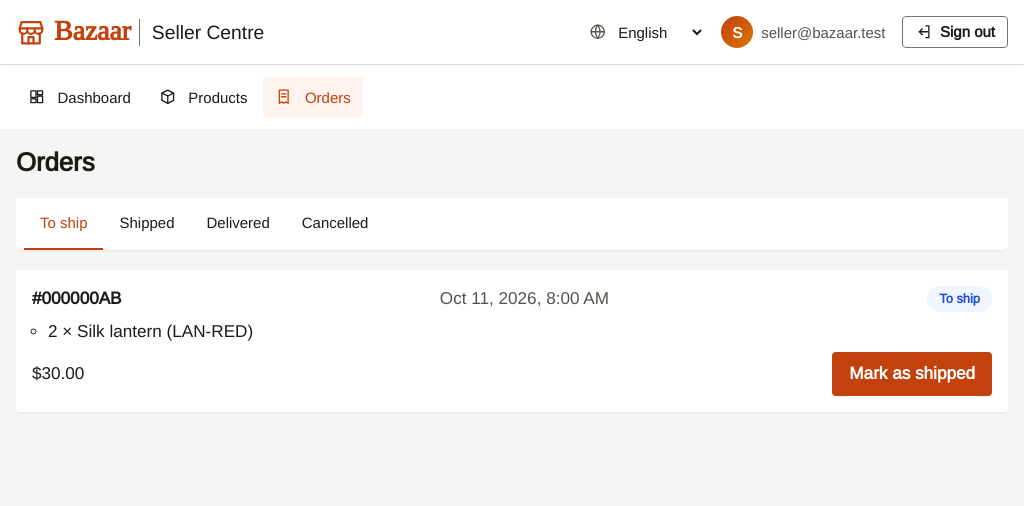
Test: seller orders › explains a refused step
The image size is (1024, 506).
Click the button "Mark as shipped" at (912, 374), box left=832, top=352, right=992, bottom=396
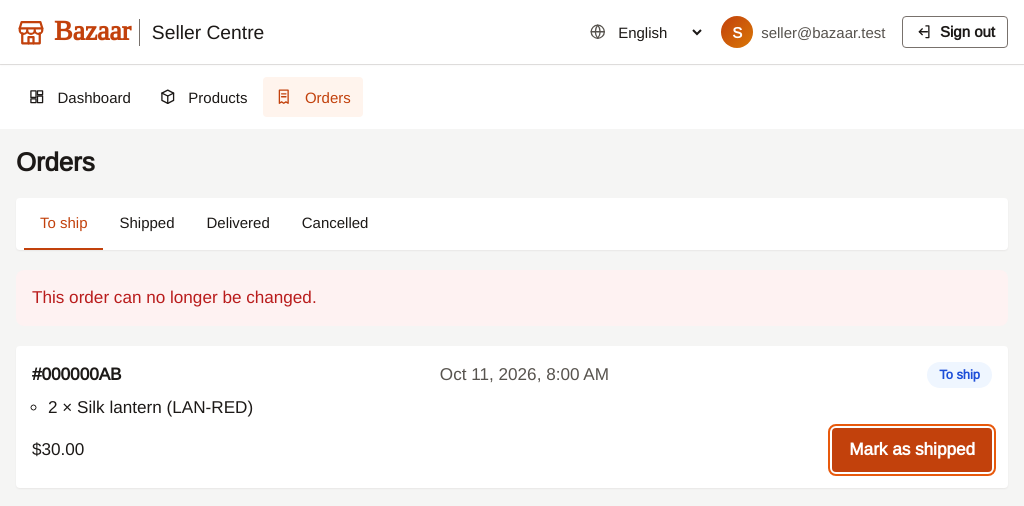
Now the message reads "This order can no longer be changed.", box left=32, top=288, right=317, bottom=307
